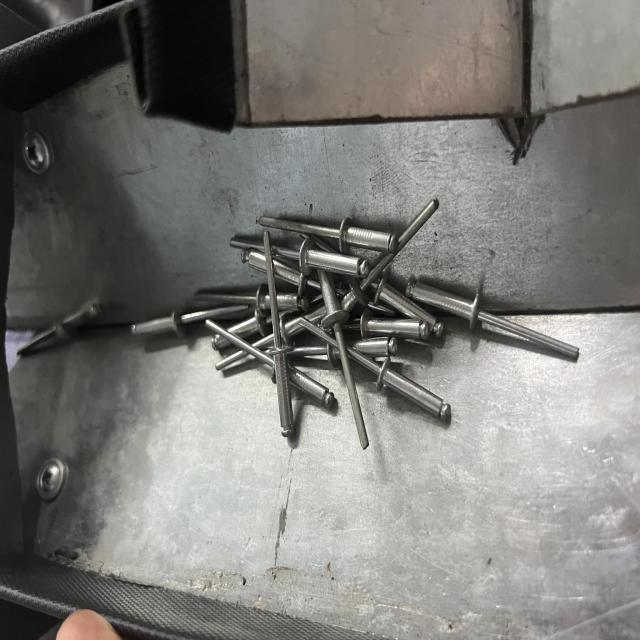rivet: (404, 275, 581, 363), (261, 232, 296, 438)
